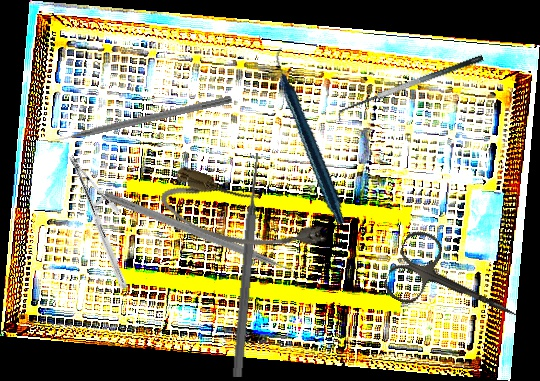Cannula: (154, 162, 335, 274)
Chopper: (97, 190, 306, 291)
Handpiece: (237, 46, 386, 226)
Hook Surgical: (46, 93, 233, 146)
Iris Scissors: (380, 225, 532, 350)
Needle Holder: (25, 152, 171, 292)
Pusher: (230, 152, 265, 378)
Spatula Surgical: (333, 54, 489, 124)
